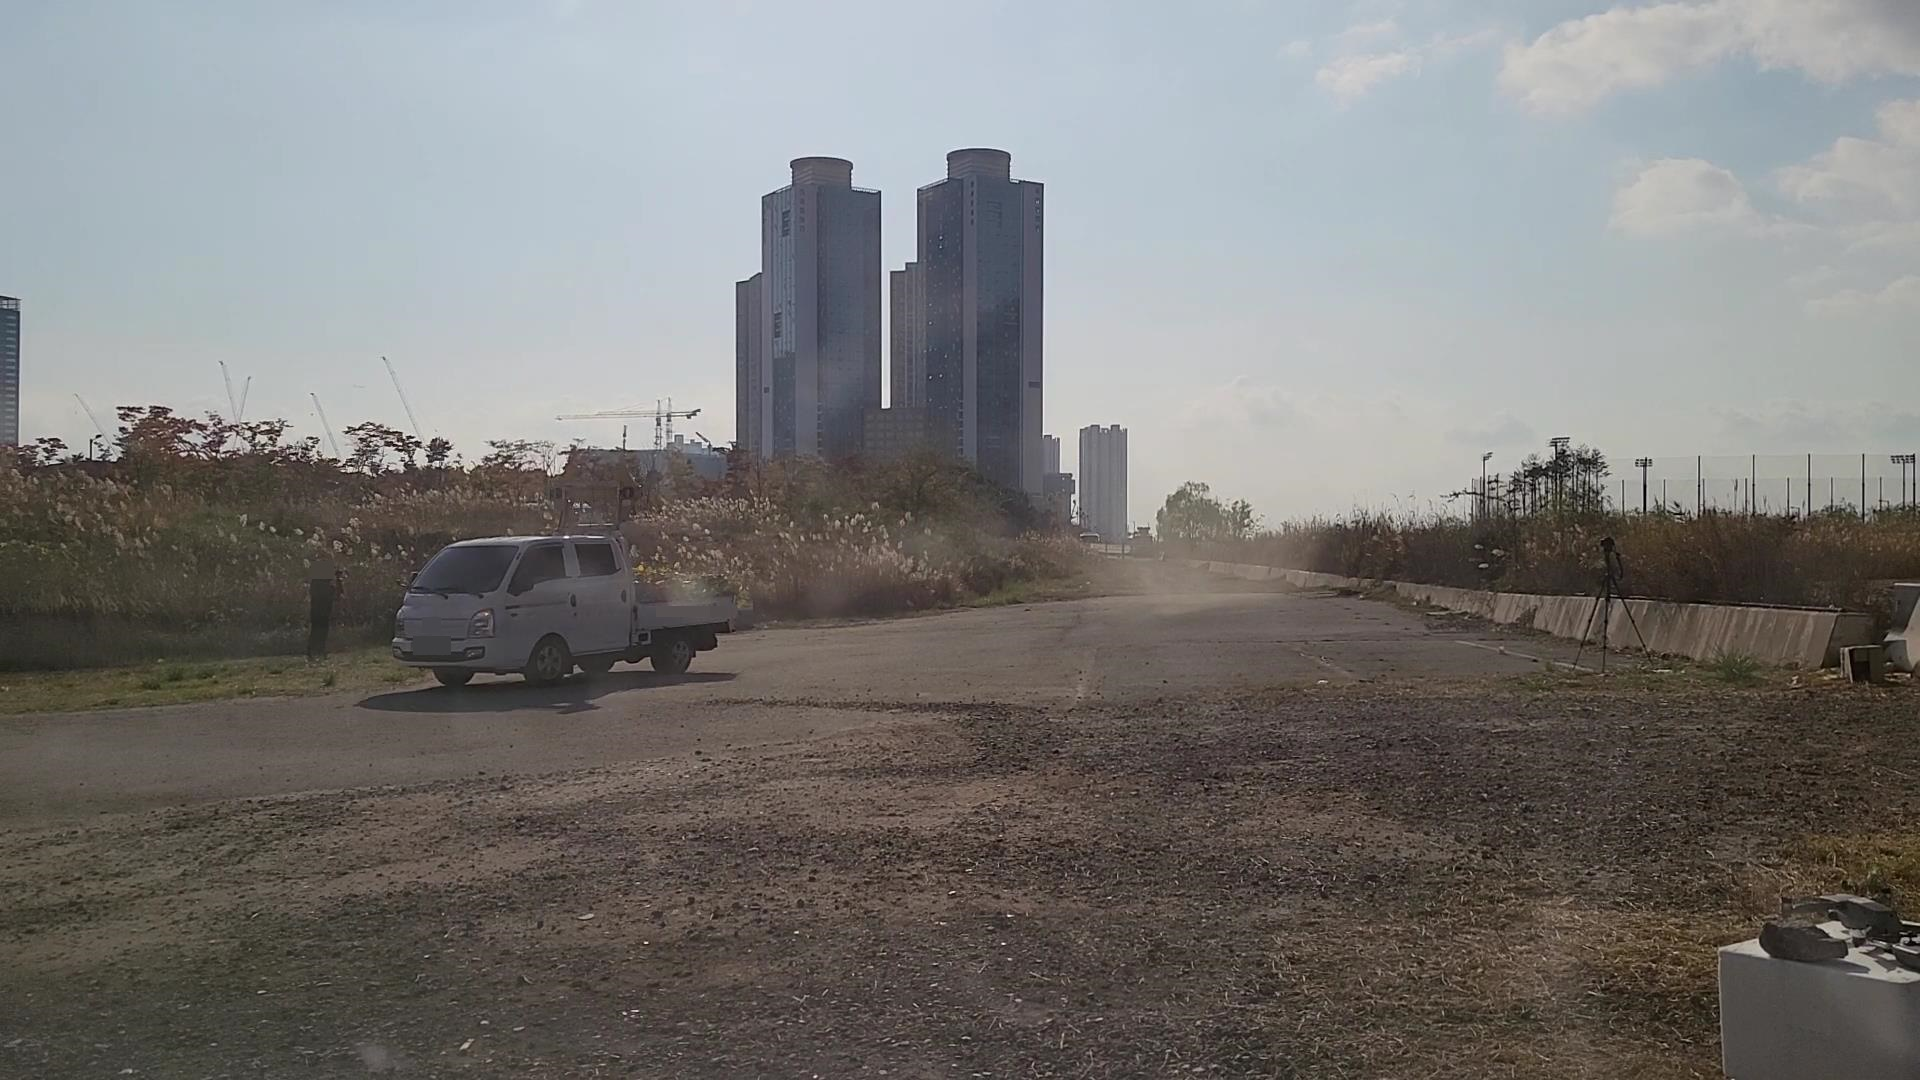불법차량: (391, 537, 738, 687)
